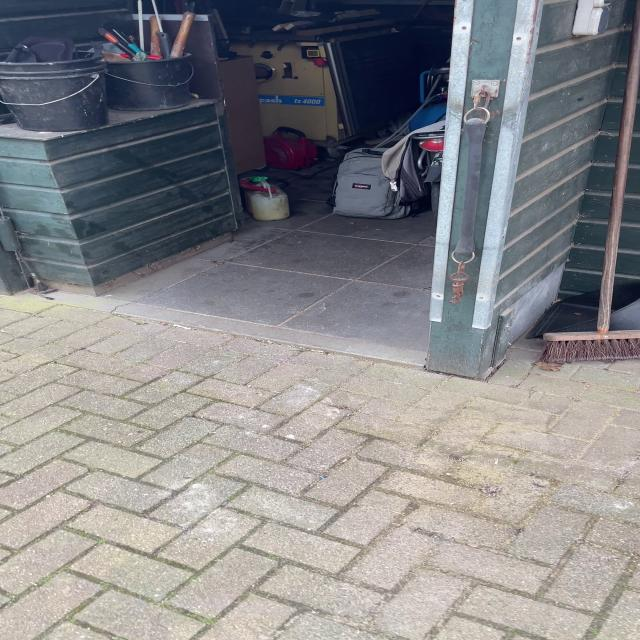backpack: (322, 146, 418, 224)
